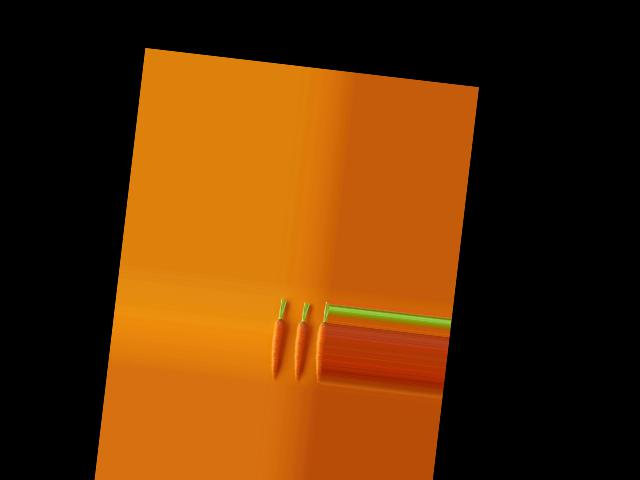carrot: (312, 299, 329, 373)
